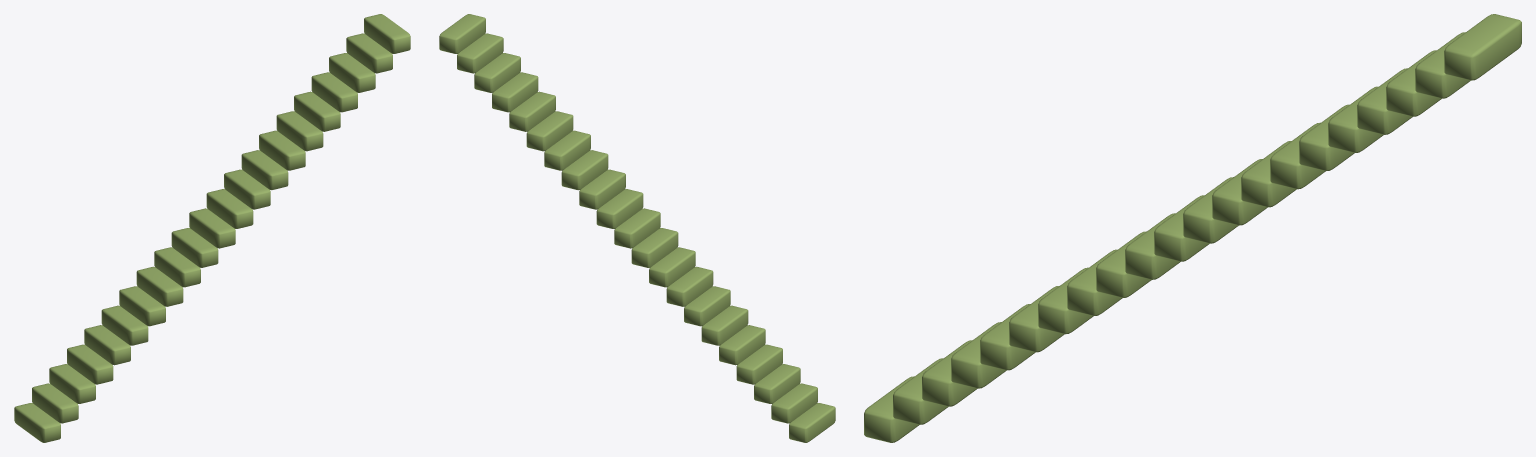
The model's file is strairway.fbx.
The picture shows the model from 3 angles, left to right: view 1: azimuth 30°, elevation 25°; view 2: azimuth 150°, elevation 25°; view 3: azimuth 330°, elevation 25°; orthographic projection. The views are drawn at different scales.
Parts seen in each view (by area): view 1: stairway; view 2: stairway; view 3: stairway.
Boxes of the visible parts, x1,y1,x2,y2 form: stairway: (14,14,410,442); stairway: (439,14,835,442); stairway: (864,14,1521,442).
Size of the model in its own units: 235 by 195 by 33.52.
